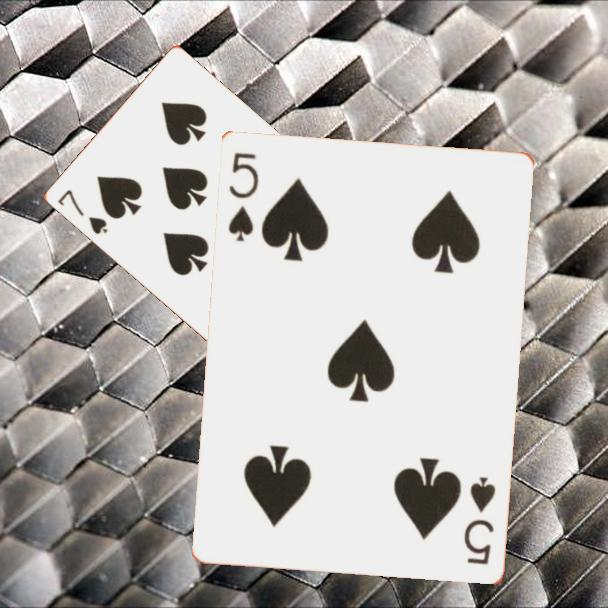s05: (460, 473, 498, 567), (225, 148, 262, 244)
s07: (54, 186, 110, 237)
